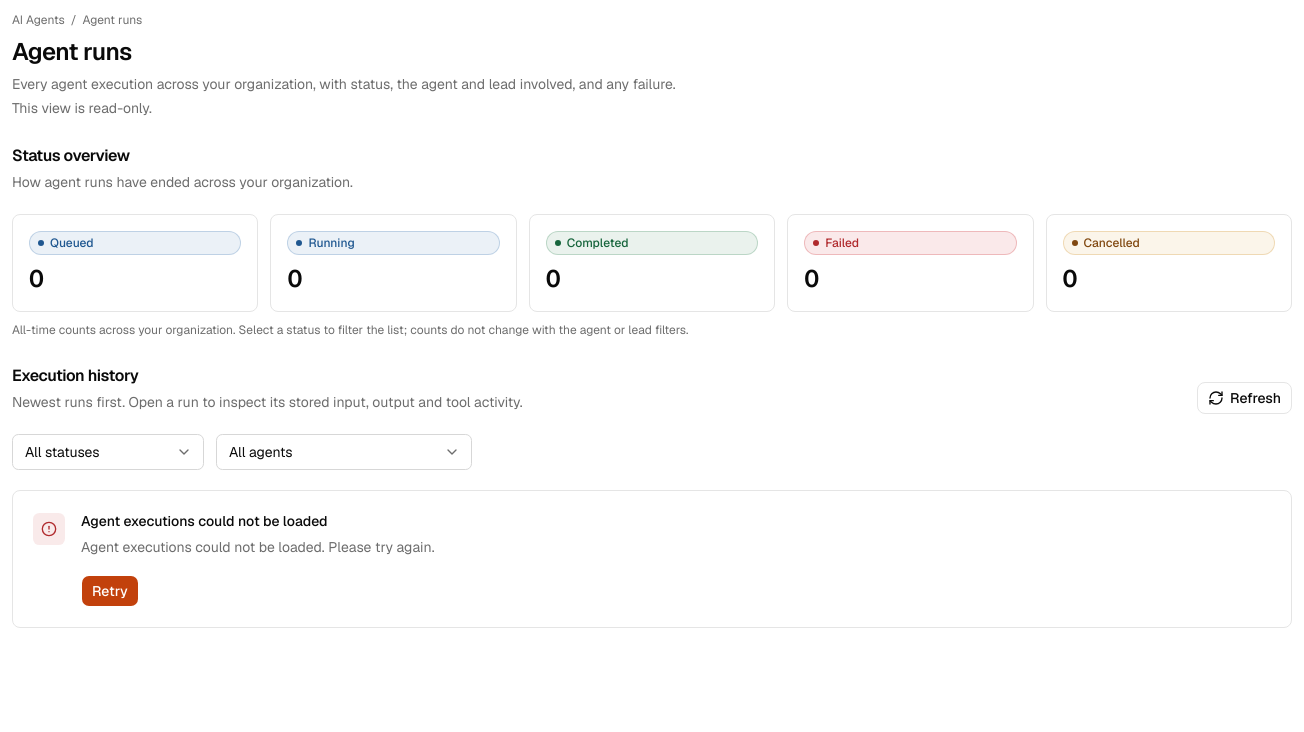
Test: Agent runs page › shows an error with retry and recovers
Expected: the text "Agent executions could not be loaded. Please try again." is shown, [81,535,434,559]
Expected: the heading "Agent executions could not be loaded" is shown, [81,512,328,530]
Click the button "Retry" at (110, 591), box [81,575,139,607]
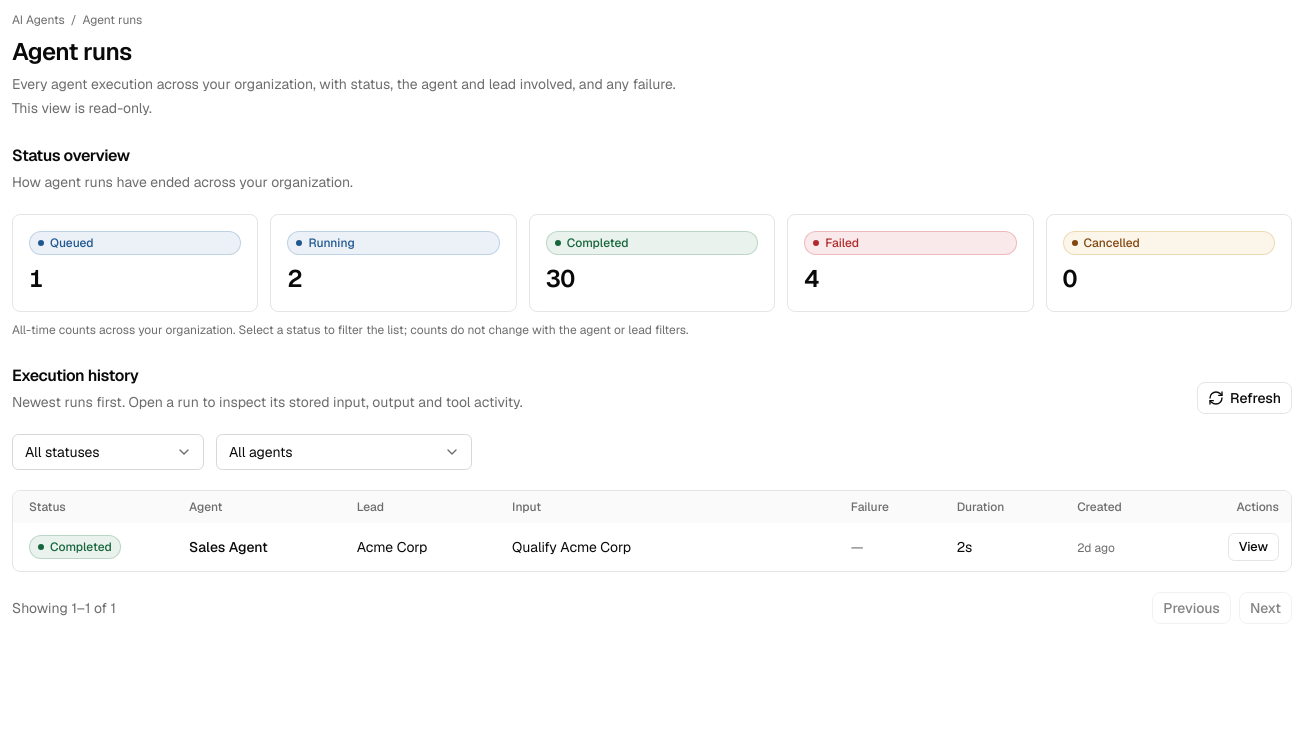
Now the link "Sales Agent" is shown, box [189,538,268,556]
